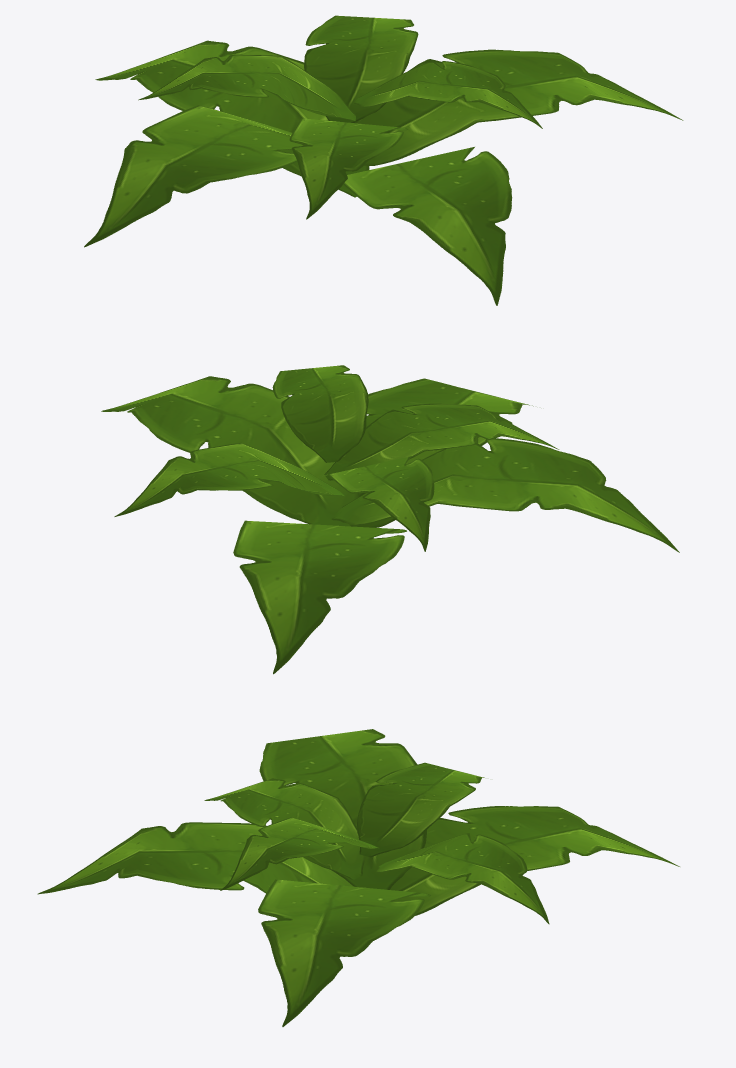
The model's file is Prop_d.FBX.
3 renders of one model, top to bottom at view 1: azimuth 30°, elevation 25°; view 2: azimuth 150°, elevation 25°; view 3: azimuth 270°, elevation 25°, orthographic. The views are drawn at different scales.
Visible parts, largest first — view 1: Prop_d; view 2: Prop_d; view 3: Prop_d.
Boxes of the visible parts, x1,y1,x2,y2 form: Prop_d: [84, 15, 683, 305]; Prop_d: [101, 365, 679, 674]; Prop_d: [37, 729, 679, 1026].
Bounding box in the file's own units: 116 × 19.29 × 113.
